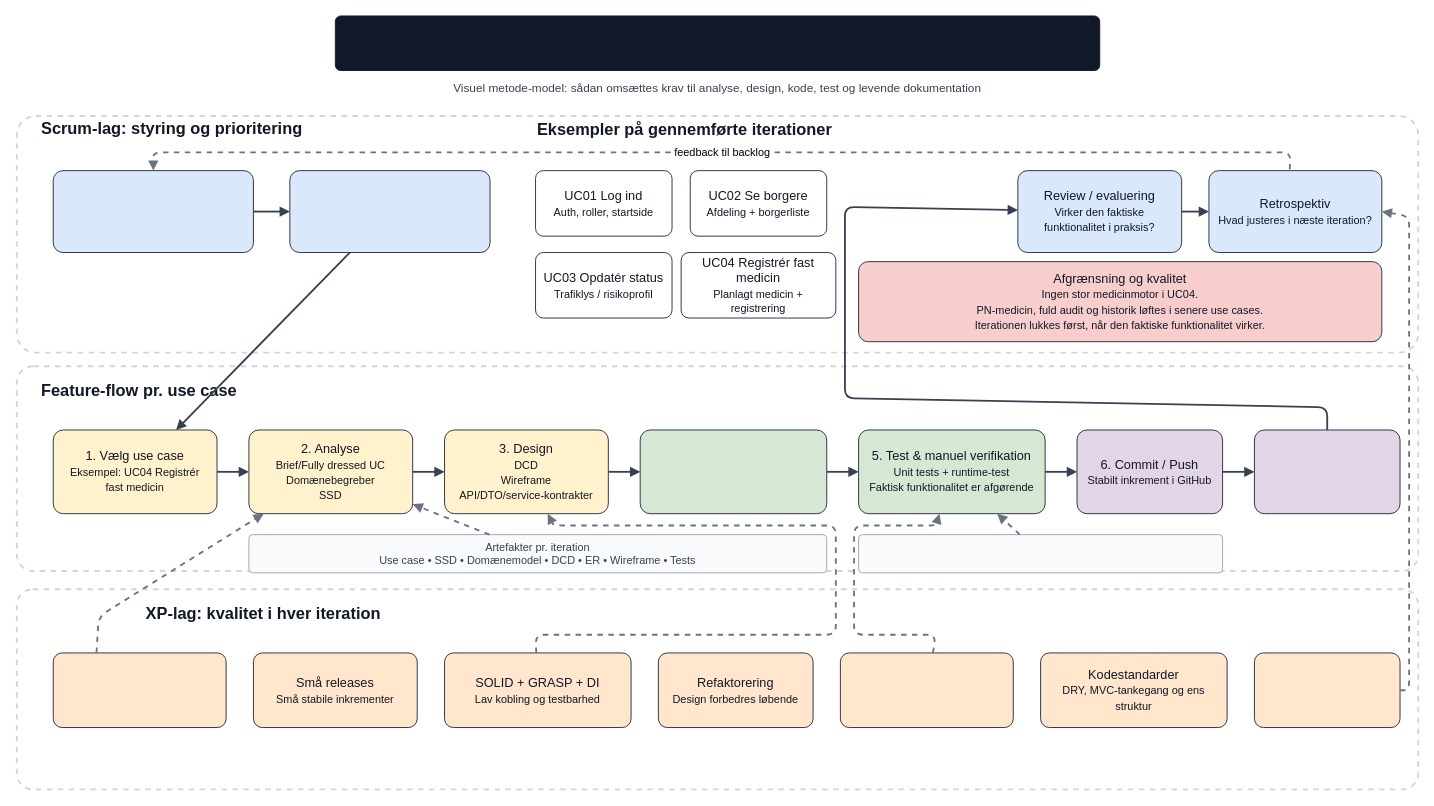
Some shapes in this 1434 by 806 pixel diagram are drawn without their labels. The shapes that lost their labels are listed below. From the top down, each one's box as (x1, y1, x2, y2) in pixels, then its label:
(334, 15, 1100, 71): Scrum + XP anvendt i VIGOR
(52, 170, 253, 253): Product Backlog UC01-UC15 prioriteres efter værdi og risiko
(289, 170, 490, 253): Sprint / iterationsmål Én eller få use cases vælges
(639, 429, 827, 514): 4. Implementering UI → Client service → API → Service → DB
(1254, 429, 1400, 514): 7. Levende artefakter Diagrammer og rapport opdateres ved behov
(858, 534, 1223, 573): Sporbarhed Krav → model → kode → test → dokumentation
(52, 652, 226, 728): Simpelt design / KISS Kun det use casen kræver
(839, 652, 1013, 728): Tests + build Teknisk kvalitet kontrolleres
(1254, 652, 1400, 728): Feedback / læring Fund fra faktisk brug føres tilbage til backlog
